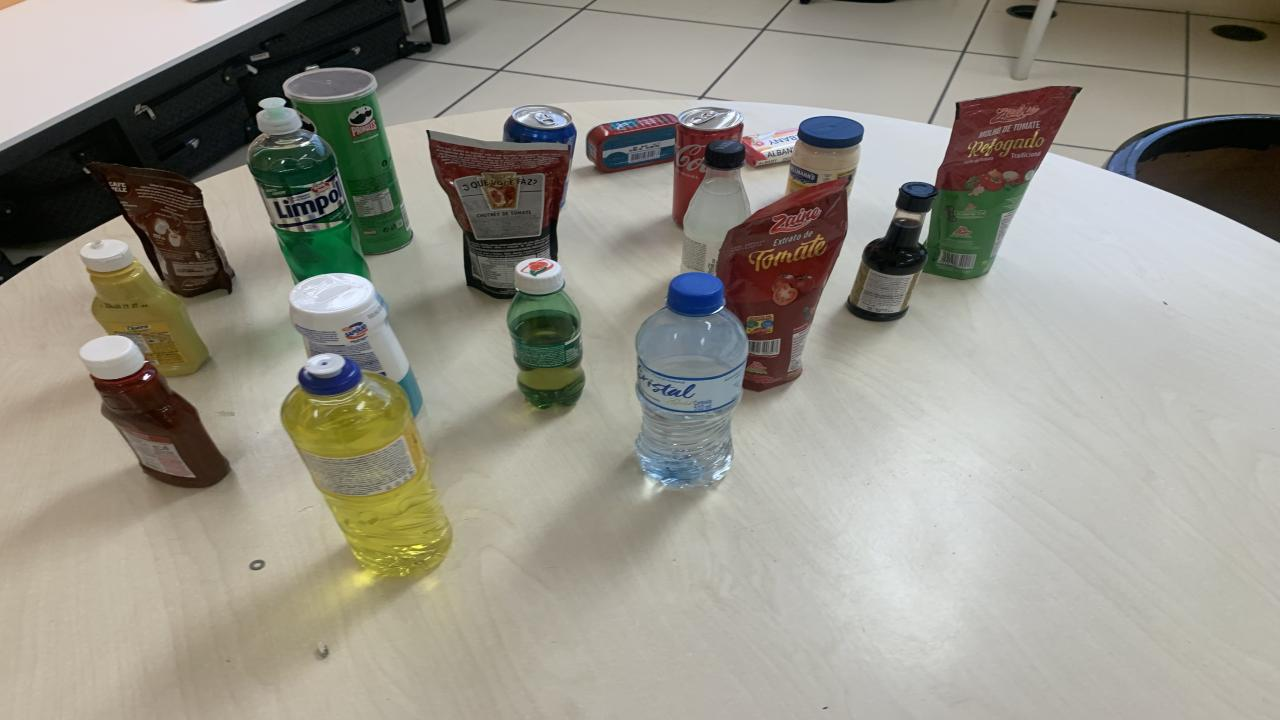Cleaner-Cleanup_Items: (290, 274, 422, 412)
Coffee-Pantry_Items: (88, 163, 232, 296)
Coke-Drinks: (672, 107, 742, 225)
Detergent-Cleanup_Items: (280, 352, 452, 576), (248, 98, 370, 283)
English_Sauce-Pantry_Items: (845, 182, 938, 322)
Guarana-Drinks: (508, 257, 585, 409)
Ketchup-Pantry_Items: (80, 336, 230, 488)
Mayonnaise-Pantry_Items: (785, 116, 865, 195)
Mustard-Pantry_Items: (80, 240, 208, 377), (80, 240, 208, 375)
Pringles-Snacks: (282, 68, 412, 255)
Soap-Cleanup_Items: (742, 129, 798, 167)
Soda-Drinks: (680, 141, 750, 274), (682, 141, 750, 274)
Tomato_Sauce-Pantry_Items: (925, 86, 1078, 279), (718, 180, 848, 390), (428, 131, 570, 300)
Tonic-Drinks: (502, 105, 578, 158)
Tuna_Can-Pantry_Items: (585, 112, 678, 172)
Water_Bottle-Drinks: (635, 272, 748, 488)
